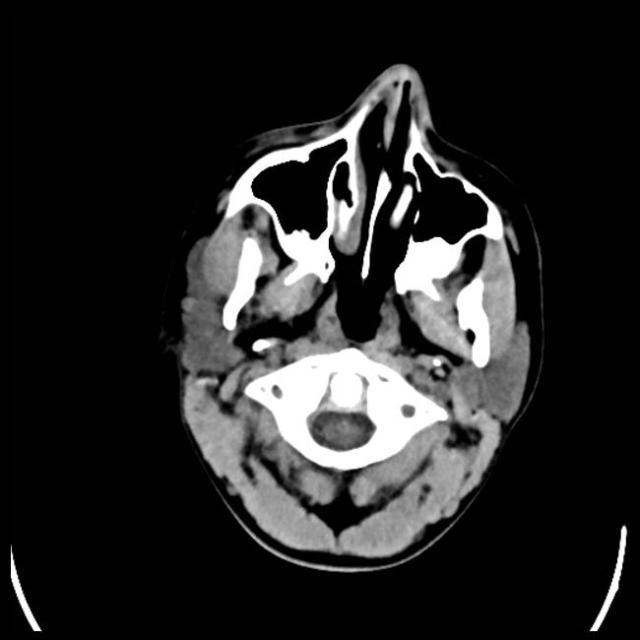lesion: (168, 60, 548, 572)
